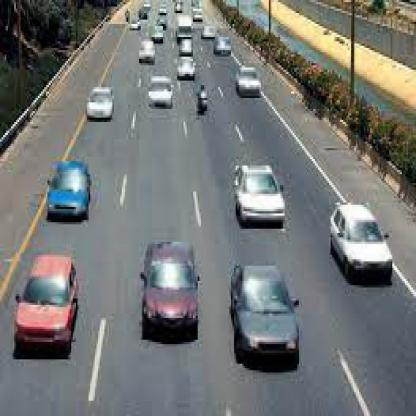car: (10, 254, 74, 363), (235, 267, 302, 367), (140, 243, 200, 343), (331, 204, 395, 289), (237, 166, 287, 232), (49, 162, 91, 223), (234, 67, 264, 102), (86, 86, 115, 121), (150, 75, 173, 110), (140, 38, 156, 66), (197, 84, 210, 114), (215, 38, 234, 58), (178, 60, 196, 79), (202, 23, 219, 42), (178, 38, 194, 58), (150, 27, 166, 40), (129, 19, 140, 32)
truck: (173, 14, 194, 40)
